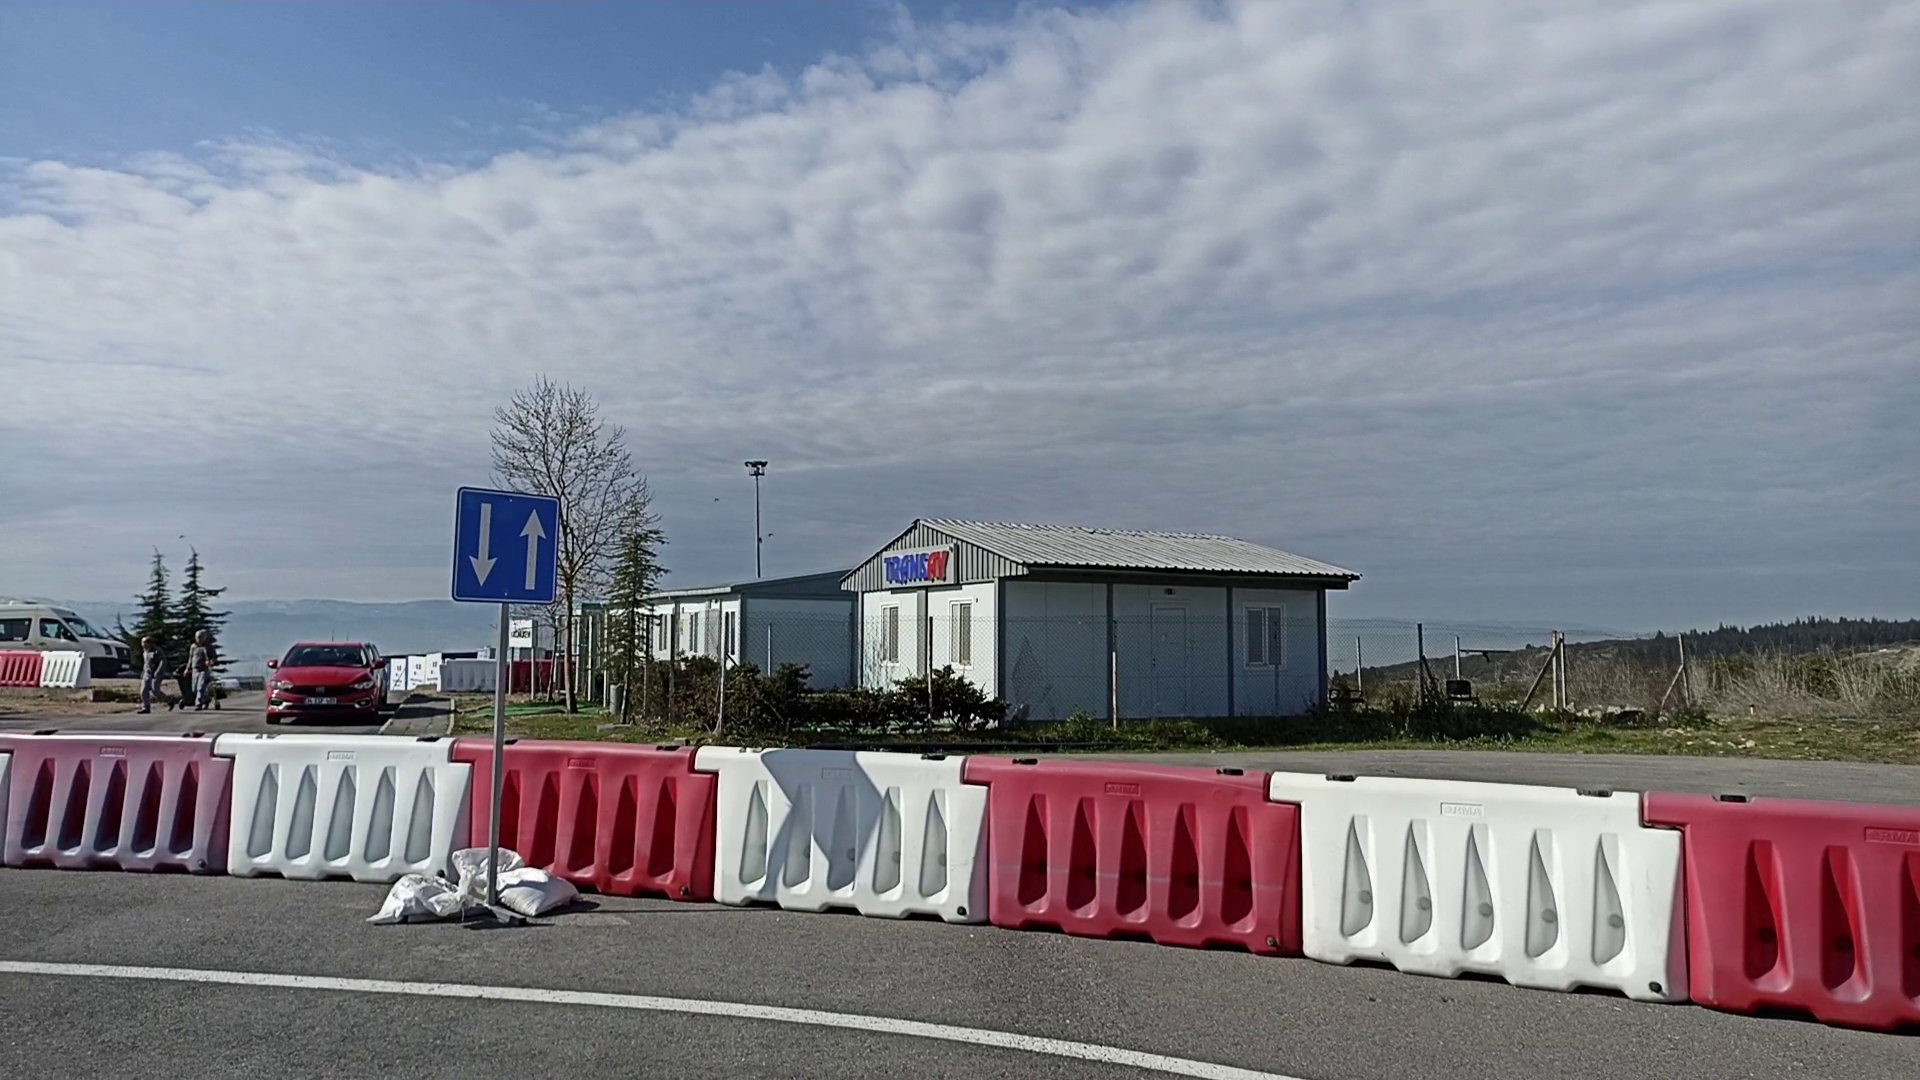oneway: (448, 485, 562, 609)
